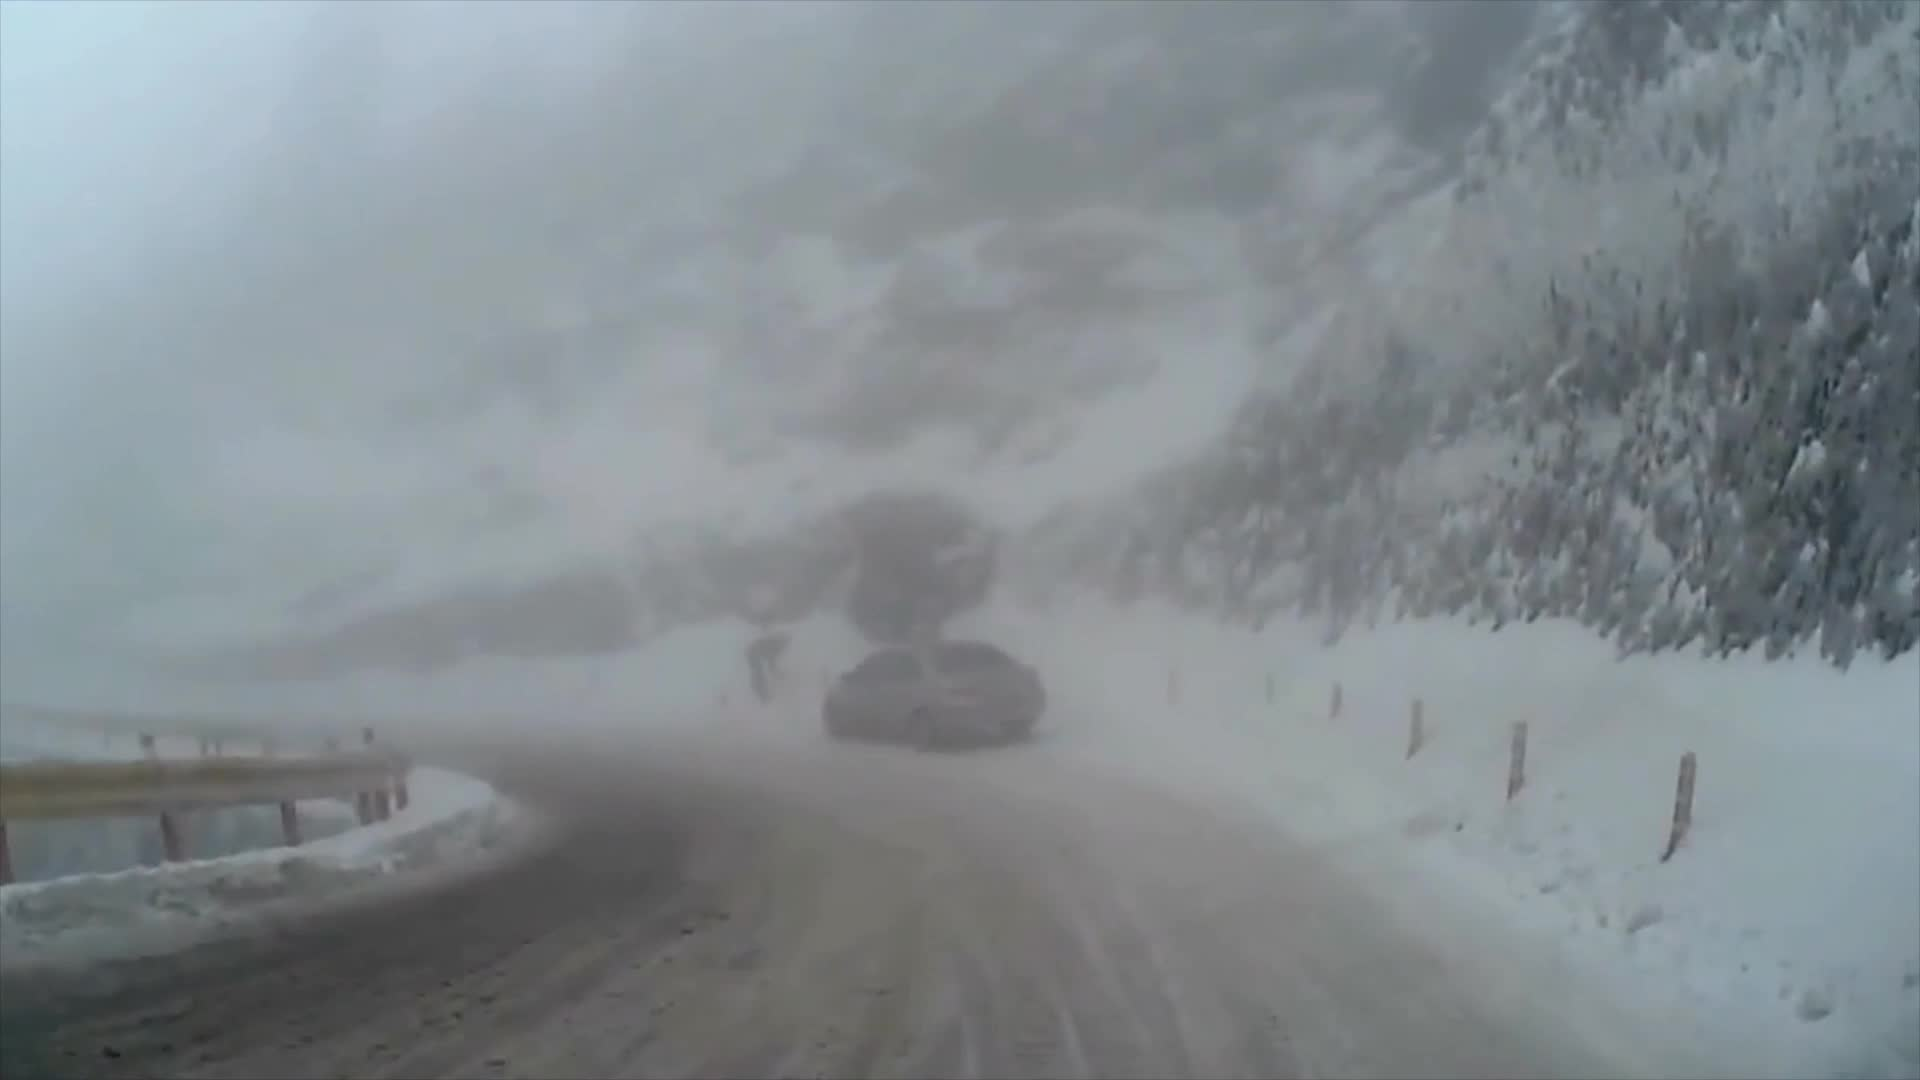pedestrian: (748, 634, 792, 703)
vehicle: (821, 642, 1045, 757)
